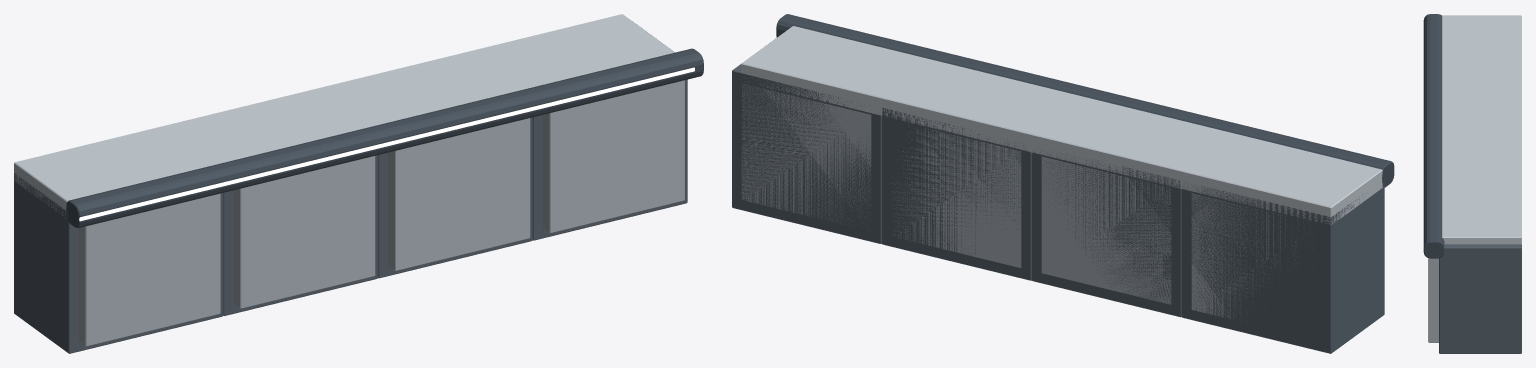
The model's file is Terrain_TopRun4R.gltf.
3 renders of one model, left to right at view 1: azimuth 30°, elevation 25°; view 2: azimuth 150°, elevation 25°; view 3: azimuth 270°, elevation 25°, orthographic. The views are drawn at different scales.
Parts seen in each view (by area): view 1: Terrain_TopRun4R_baked; view 2: Terrain_TopRun4R_baked; view 3: Terrain_TopRun4R_baked.
Boxes of the visible parts, x1=… form: Terrain_TopRun4R_baked: x1=14, y1=14, x2=703, y2=353; Terrain_TopRun4R_baked: x1=732, y1=14, x2=1394, y2=353; Terrain_TopRun4R_baked: x1=1423, y1=14, x2=1521, y2=353.
Size of the model in its own units: 4.04 by 0.9495 by 0.74.
